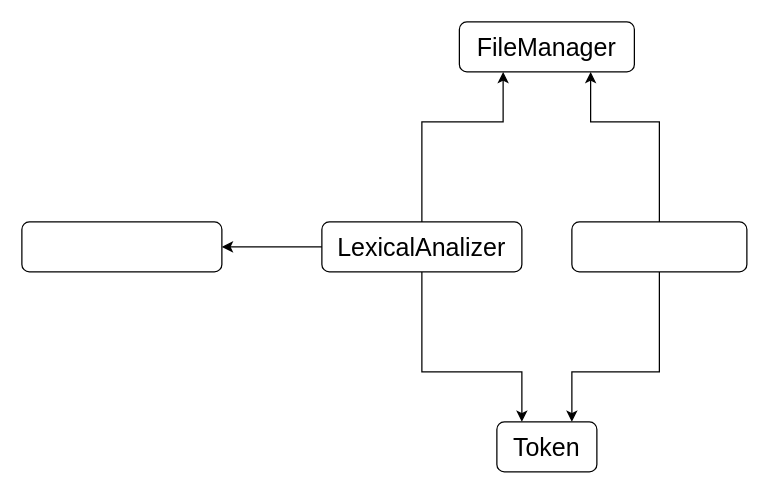
Some shapes in this 769 by 494 pixel diagram are drawn without their labels. The shapes that lost their labels are listed below. From the top down, each one's centre as x and y in pixels, then its label:
At (x=121, y=246): "ReservedWords".
At (x=659, y=246): "MainModule".
